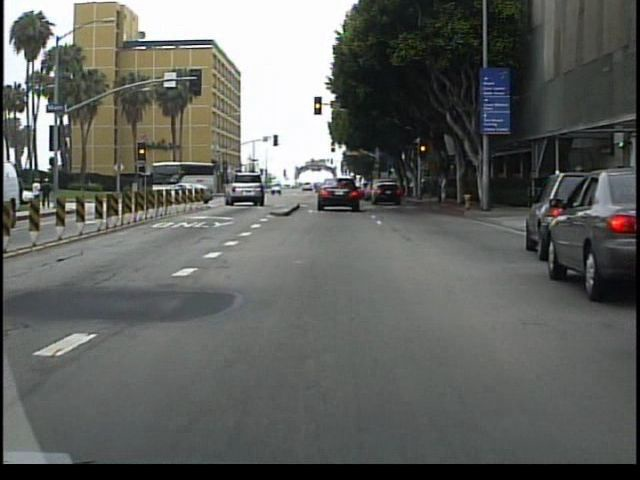person: (438, 167, 452, 205), (13, 172, 28, 207), (34, 176, 47, 213), (44, 174, 56, 203)
